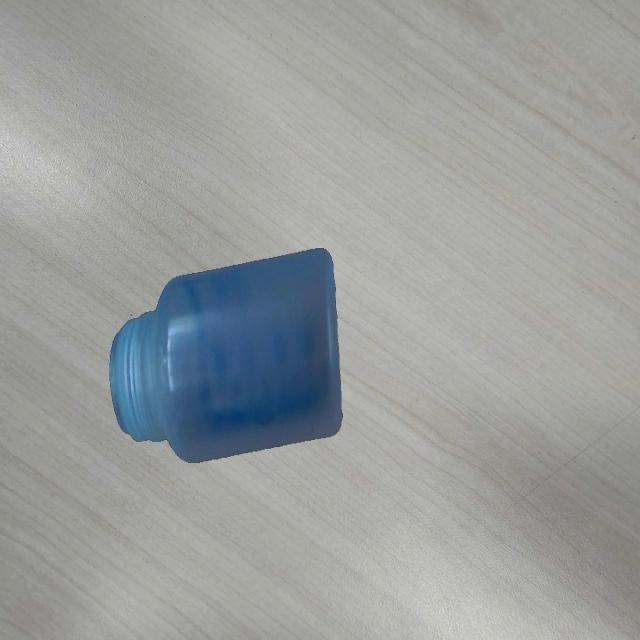bottle: (108, 244, 344, 466)
